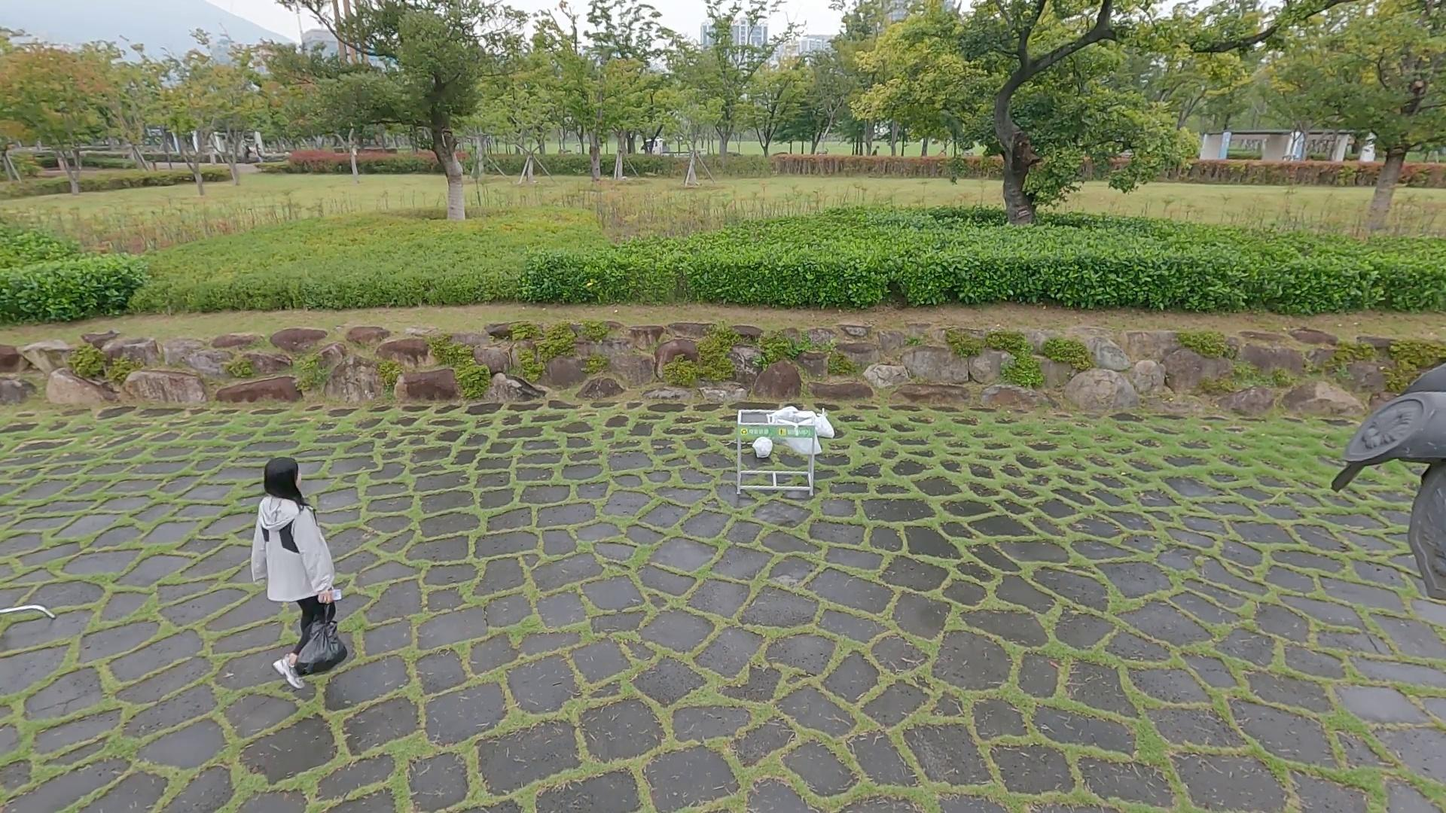person: (245, 457, 347, 690)
trash: (289, 600, 357, 678), (794, 409, 840, 442), (751, 432, 779, 462)
